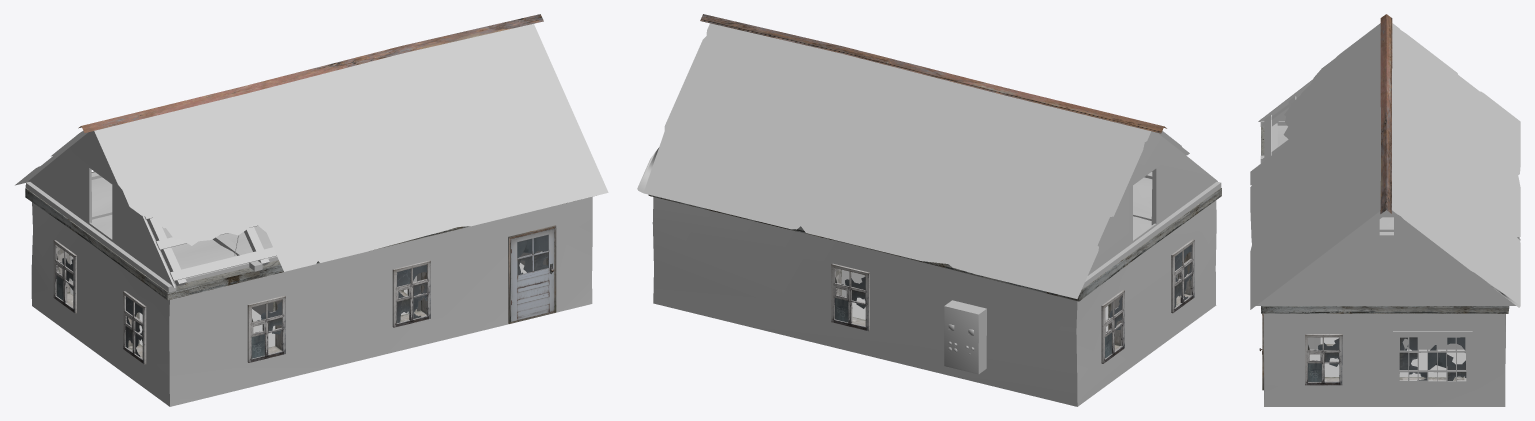
File: Houses_Ready_04.FBX
The picture shows the model from 3 angles, left to right: view 1: azimuth 30°, elevation 25°; view 2: azimuth 150°, elevation 25°; view 3: azimuth 270°, elevation 25°; orthographic projection. The views are drawn at different scales.
Parts seen in each view (by area): view 1: Roof_09, Corps_01_4, Attic_03, Peak_03, Door_06, Windows_05_2 (×2), Windows_05 (×2), Door_06_Frame; view 2: Roof_09, Corps_01_4, Attic_03, Peak_03, Electrical_Box_01, Windows_05_2 (×2), Windows_05; view 3: Roof_09, Corps_01_4, Attic_03, Windows_Big_02, Peak_03, Windows_05_2, Windows_Big_02glass (×2), Windows_05_2glass.
Part boxes in pixels (<box>): Roof_09: <box>15,23,608,271</box>; Corps_01_4: <box>25,171,592,406</box>; Attic_03: <box>25,131,278,292</box>; Peak_03: <box>78,14,543,132</box>; Door_06: <box>511,228,554,321</box>; Windows_05_2 (×2): <box>53,240,285,362</box>; Windows_05 (×2): <box>123,260,430,364</box>; Door_06_Frame: <box>508,225,556,323</box>; Roof_09: <box>637,23,1189,298</box>; Corps_01_4: <box>648,171,1221,406</box>; Attic_03: <box>1082,131,1221,289</box>; Peak_03: <box>700,14,1166,133</box>; Electrical_Box_01: <box>944,300,986,374</box>; Windows_05_2 (×2): <box>831,263,1124,363</box>; Windows_05: <box>1171,239,1194,313</box>; Roof_09: <box>1250,23,1520,309</box>; Corps_01_4: <box>1261,126,1509,406</box>; Attic_03: <box>1256,79,1515,305</box>; Windows_Big_02: <box>1393,331,1472,385</box>; Peak_03: <box>1380,14,1392,213</box>; Windows_05_2: <box>1305,334,1342,385</box>; Windows_Big_02glass (×2): <box>1399,352,1446,369</box>; Windows_05_2glass: <box>1308,363,1321,381</box>.
Size of the model in its own units: 1262 by 736 by 620.
